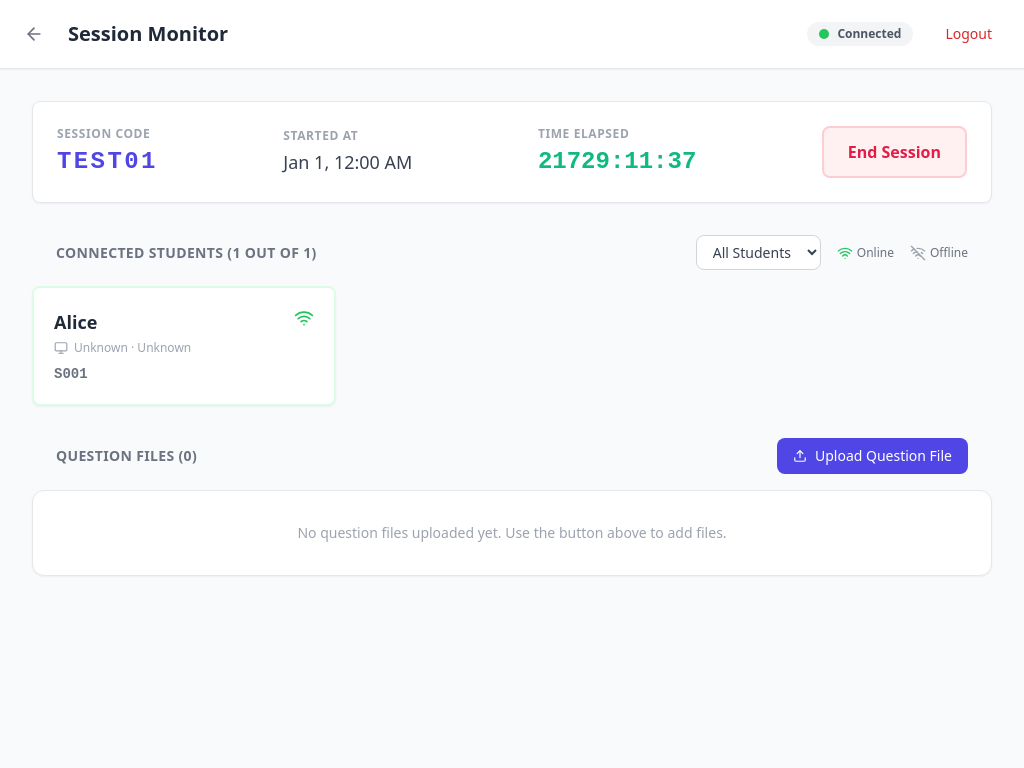
Test: SessionDetail › should show empty message when filter has no matches
Select "Offline Only" in the dropdown named "Filter by status" at (758, 252), box [696,235,821,270]
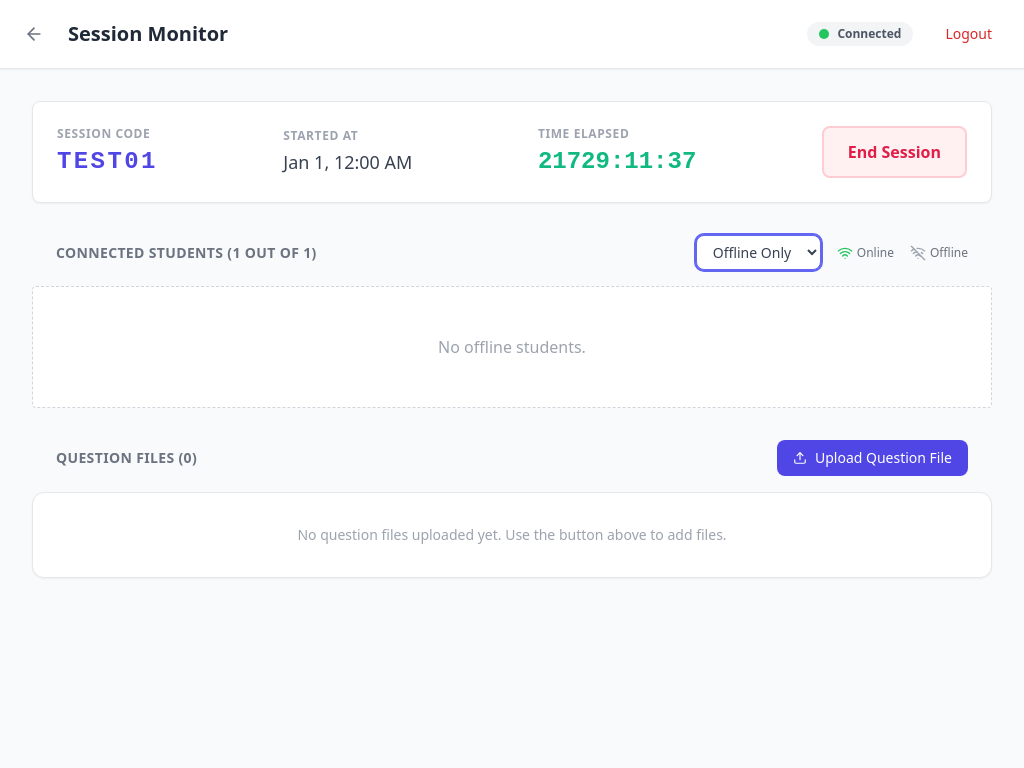
Now the text "No offline students." is shown, box [438,336,586,358]
